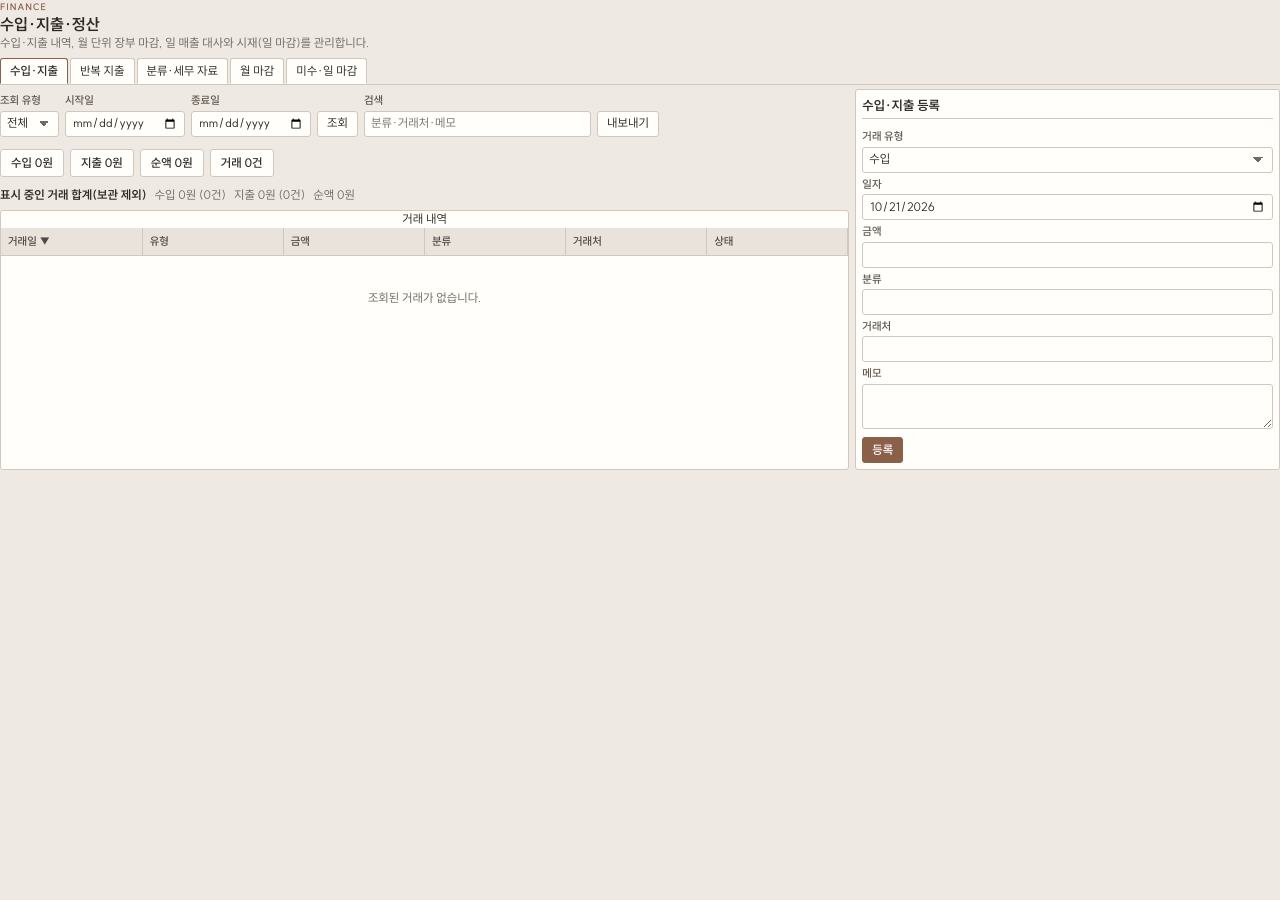
RecurringPanel 반복 지출(FIN-11) › 대기 건수를 버튼에 보이고, 확인 후 한 달치를 등록한 뒤 목록을 다시 읽는다
Click the tab "반복 지출": (102, 71) [70,58,135,84]
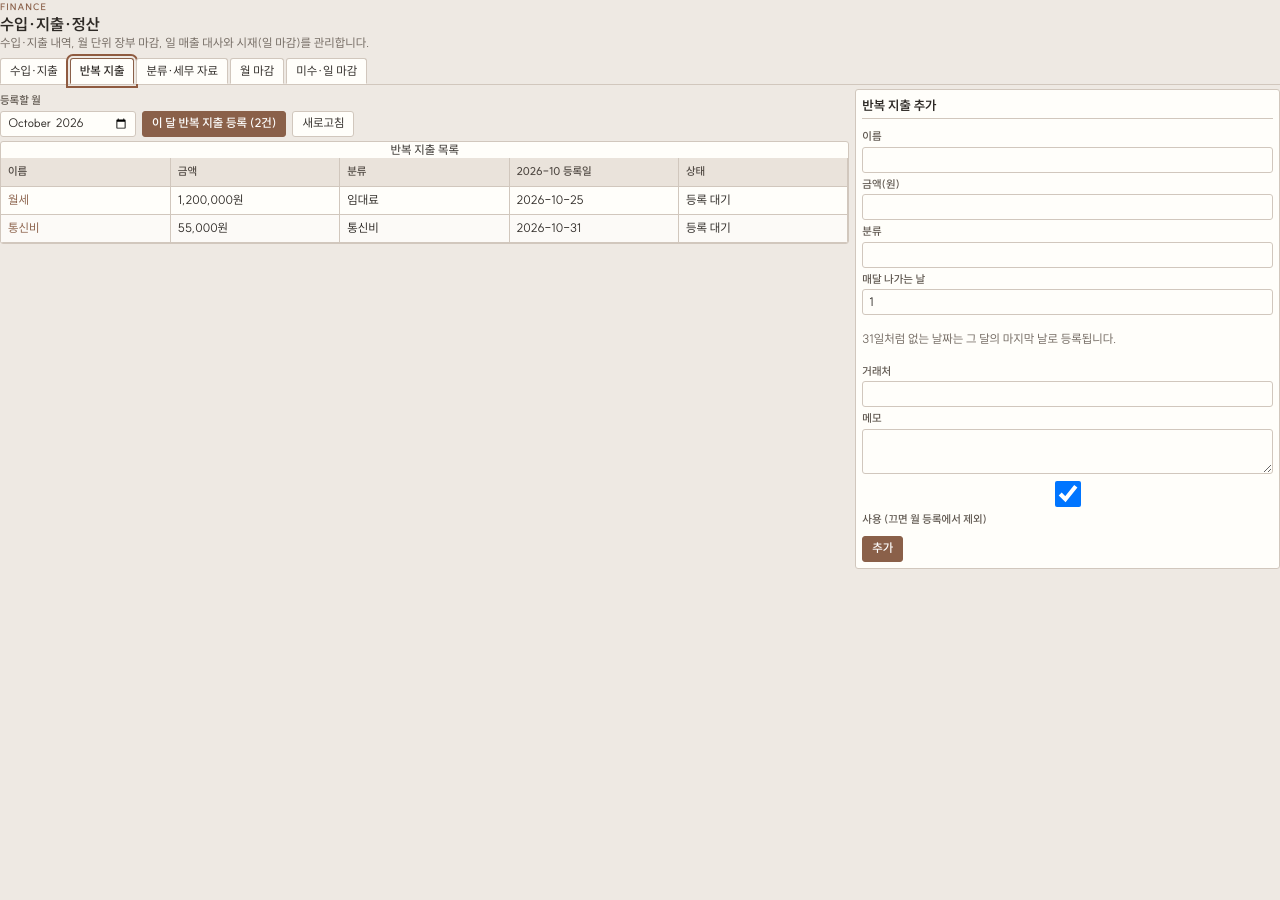
Expected: the table "반복 지출 목록" is shown, [1,142,848,243]
Click the button "이 달 반복 지출 등록 (2건)": (214, 124) [142,111,286,137]
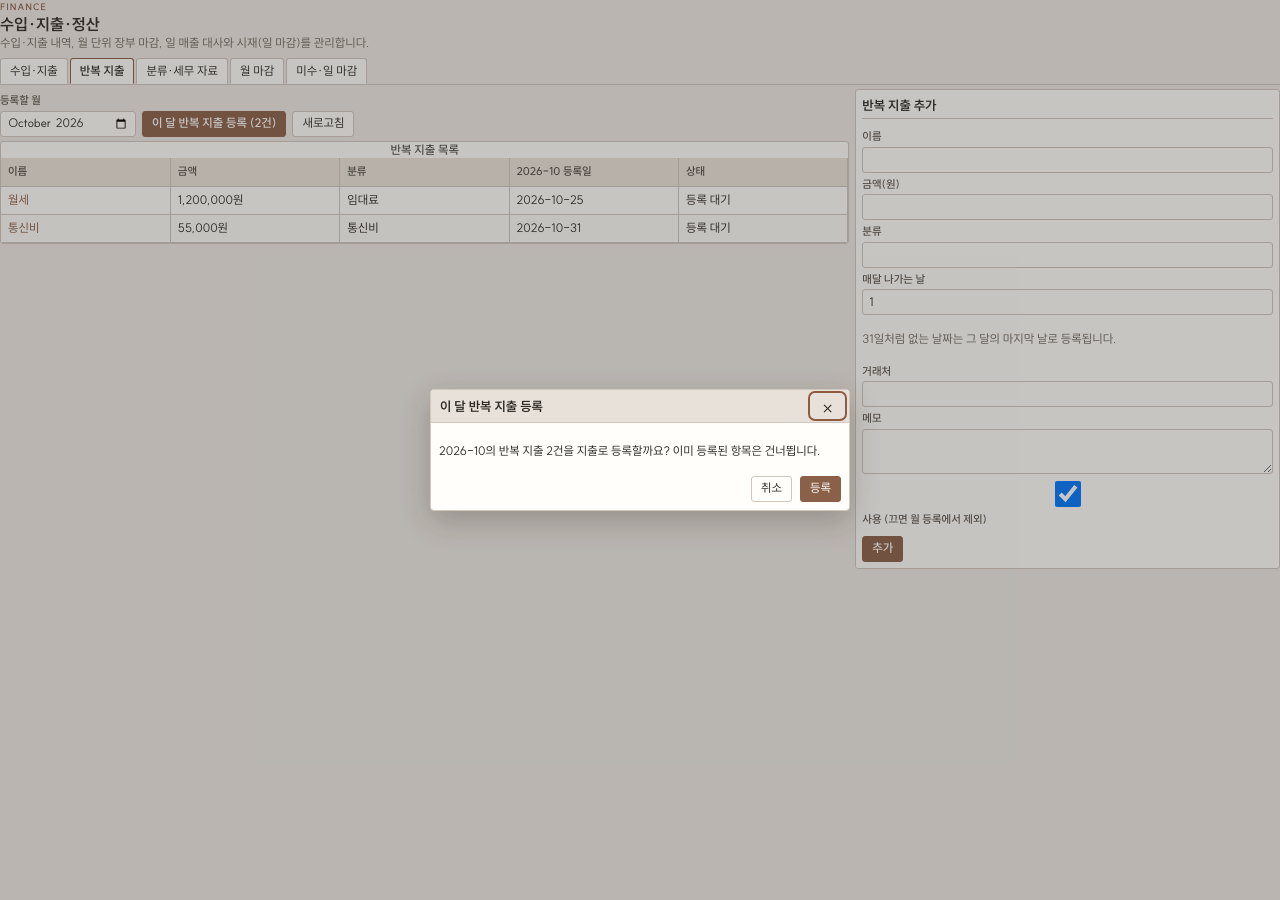
Click the button "등록": (820, 489) [800,476,841,502]
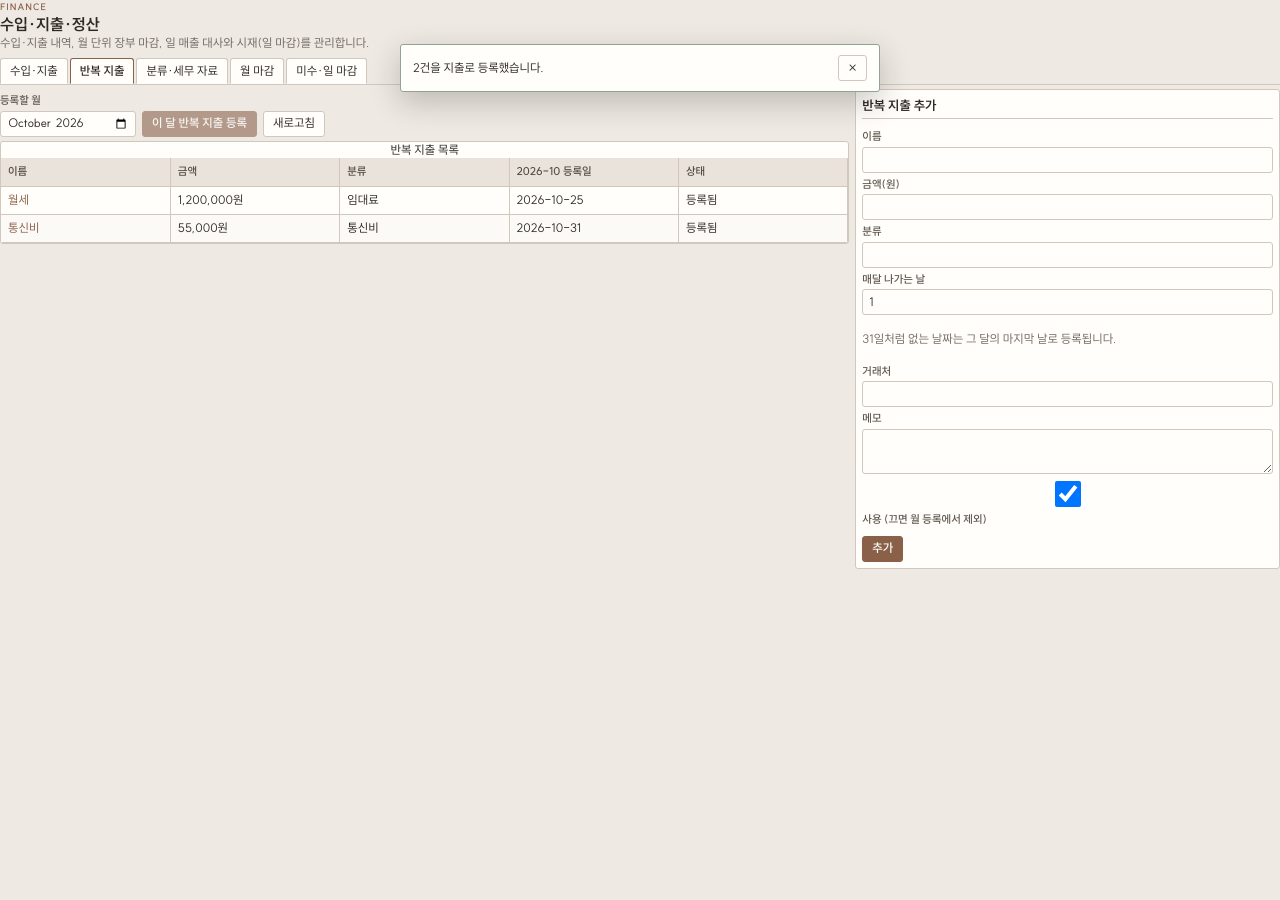
Expected: the text "2건을 지출로 등록했습니다." is shown, [413,60,544,75]
Expected: the button "이 달 반복 지출 등록" is disabled, [142,111,257,137]
